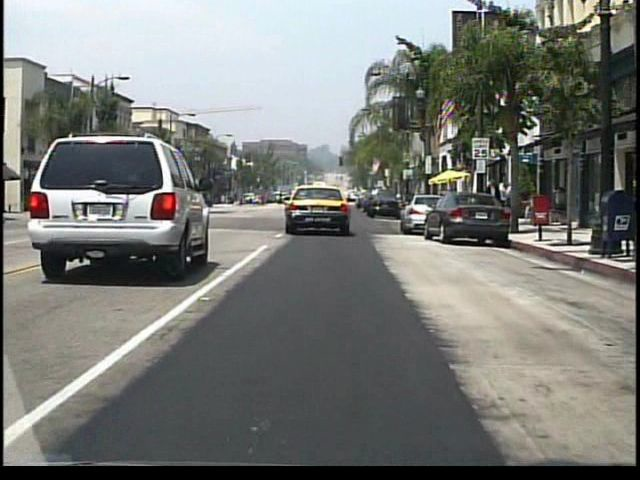person: (485, 177, 504, 225), (486, 179, 502, 221), (502, 181, 516, 220), (498, 184, 508, 212), (277, 190, 285, 205)
